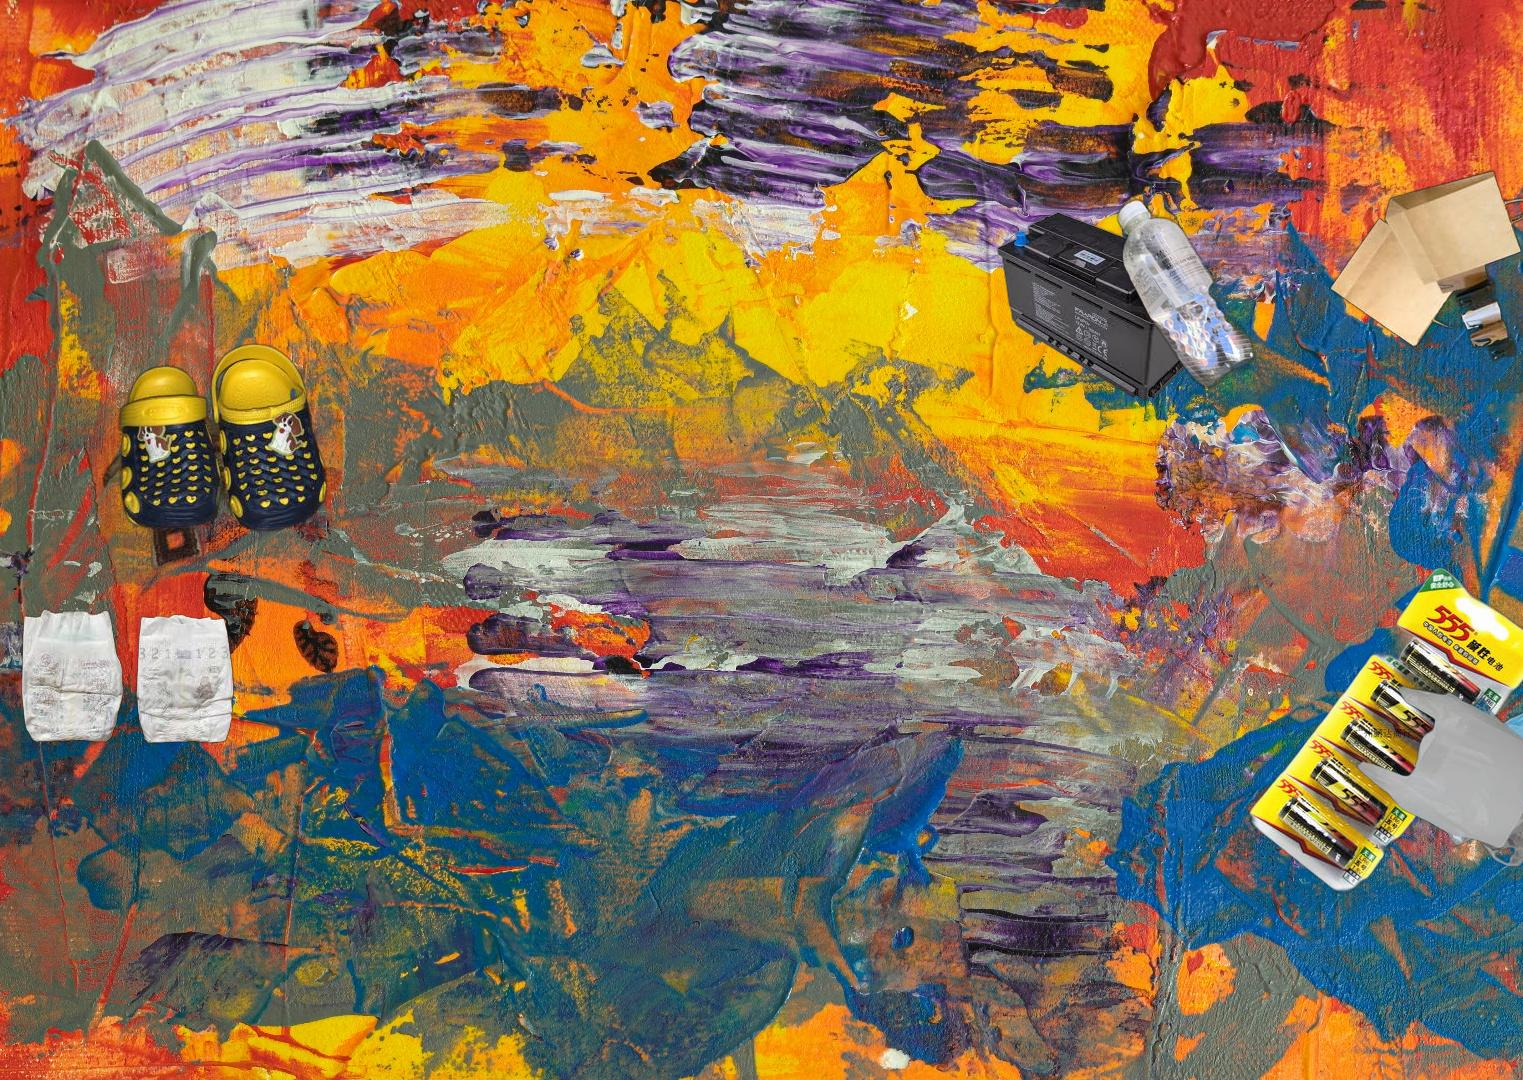battery: (1183, 533, 1523, 899), (995, 185, 1220, 402)
metal-cans: (1315, 918, 1523, 1080)
paper-bag: (1327, 168, 1523, 364)
plastic-bag: (1355, 660, 1523, 870)
plastic-bottles: (1112, 194, 1281, 581)
shoes: (101, 339, 333, 573)
trash: (19, 605, 237, 747)
